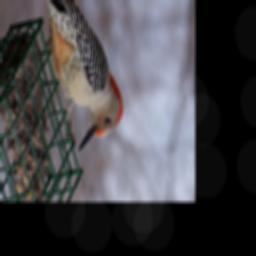Woodpecker: (36, 0, 123, 149)
